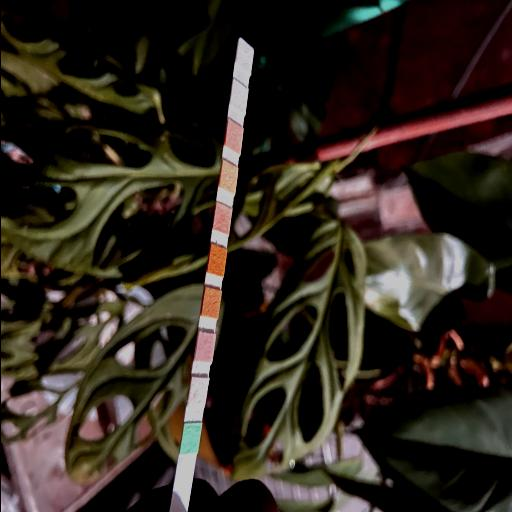Bilirubin: (190, 378, 204, 406)
Blood: (210, 248, 222, 272)
Glucose: (183, 425, 197, 453)
Ketone: (198, 335, 211, 360)
Leukocytes: (236, 46, 250, 64)
Nitrite: (231, 88, 245, 106)
Protein: (222, 167, 236, 187)
SpGravity: (203, 292, 217, 316)
Urobilinogen: (226, 127, 240, 145)
pH: (215, 208, 228, 230)
strip: (168, 37, 254, 512)
